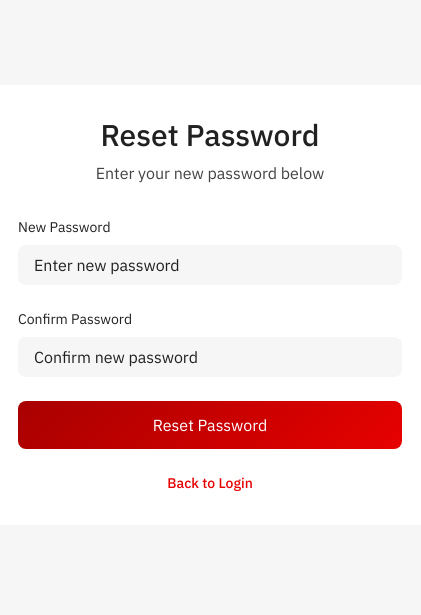
ResetPasswordPage › shows reset error when reset-password API rejects
Type "Validpass123!" into the password field with test id "new-password-input" at (210, 265), box top-left (18, 245), bottom-right (402, 285)
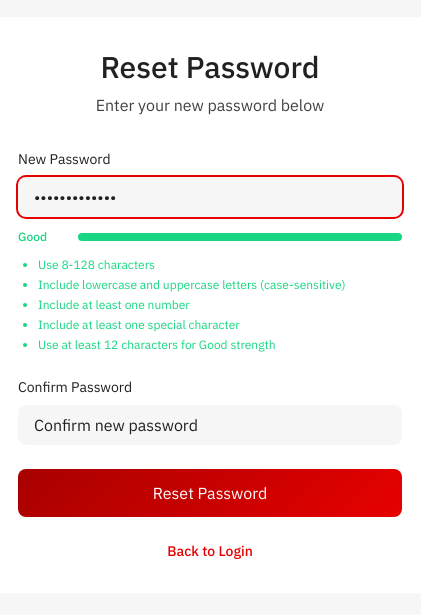
Type "Validpass123!" into the password field with test id "confirm-password-input" at (210, 425), box top-left (18, 405), bottom-right (402, 445)
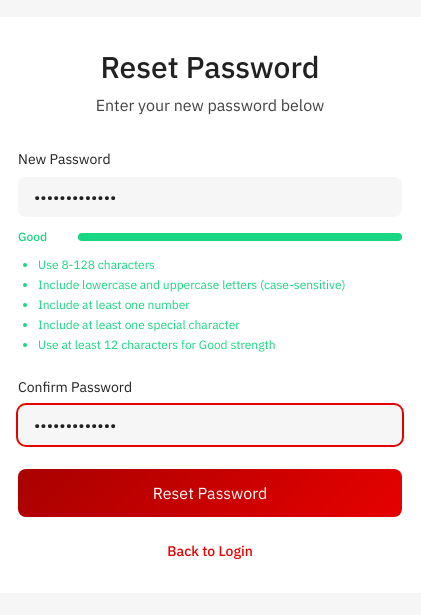
Click the button with test id "reset-password-submit-button" at (210, 493), box top-left (18, 469), bottom-right (402, 517)
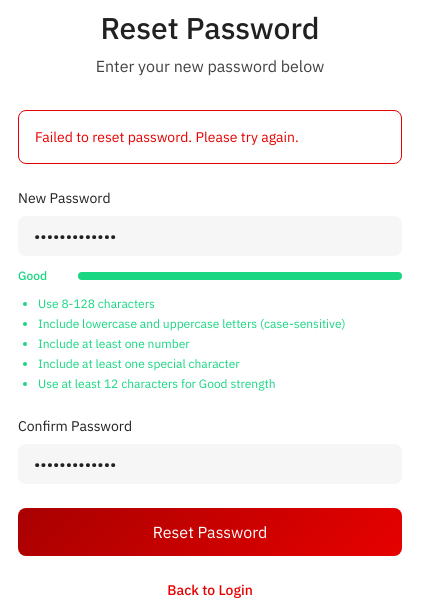
Result: the text "Failed to reset password. Please try again." is shown at top-left (35, 128), bottom-right (299, 146)
